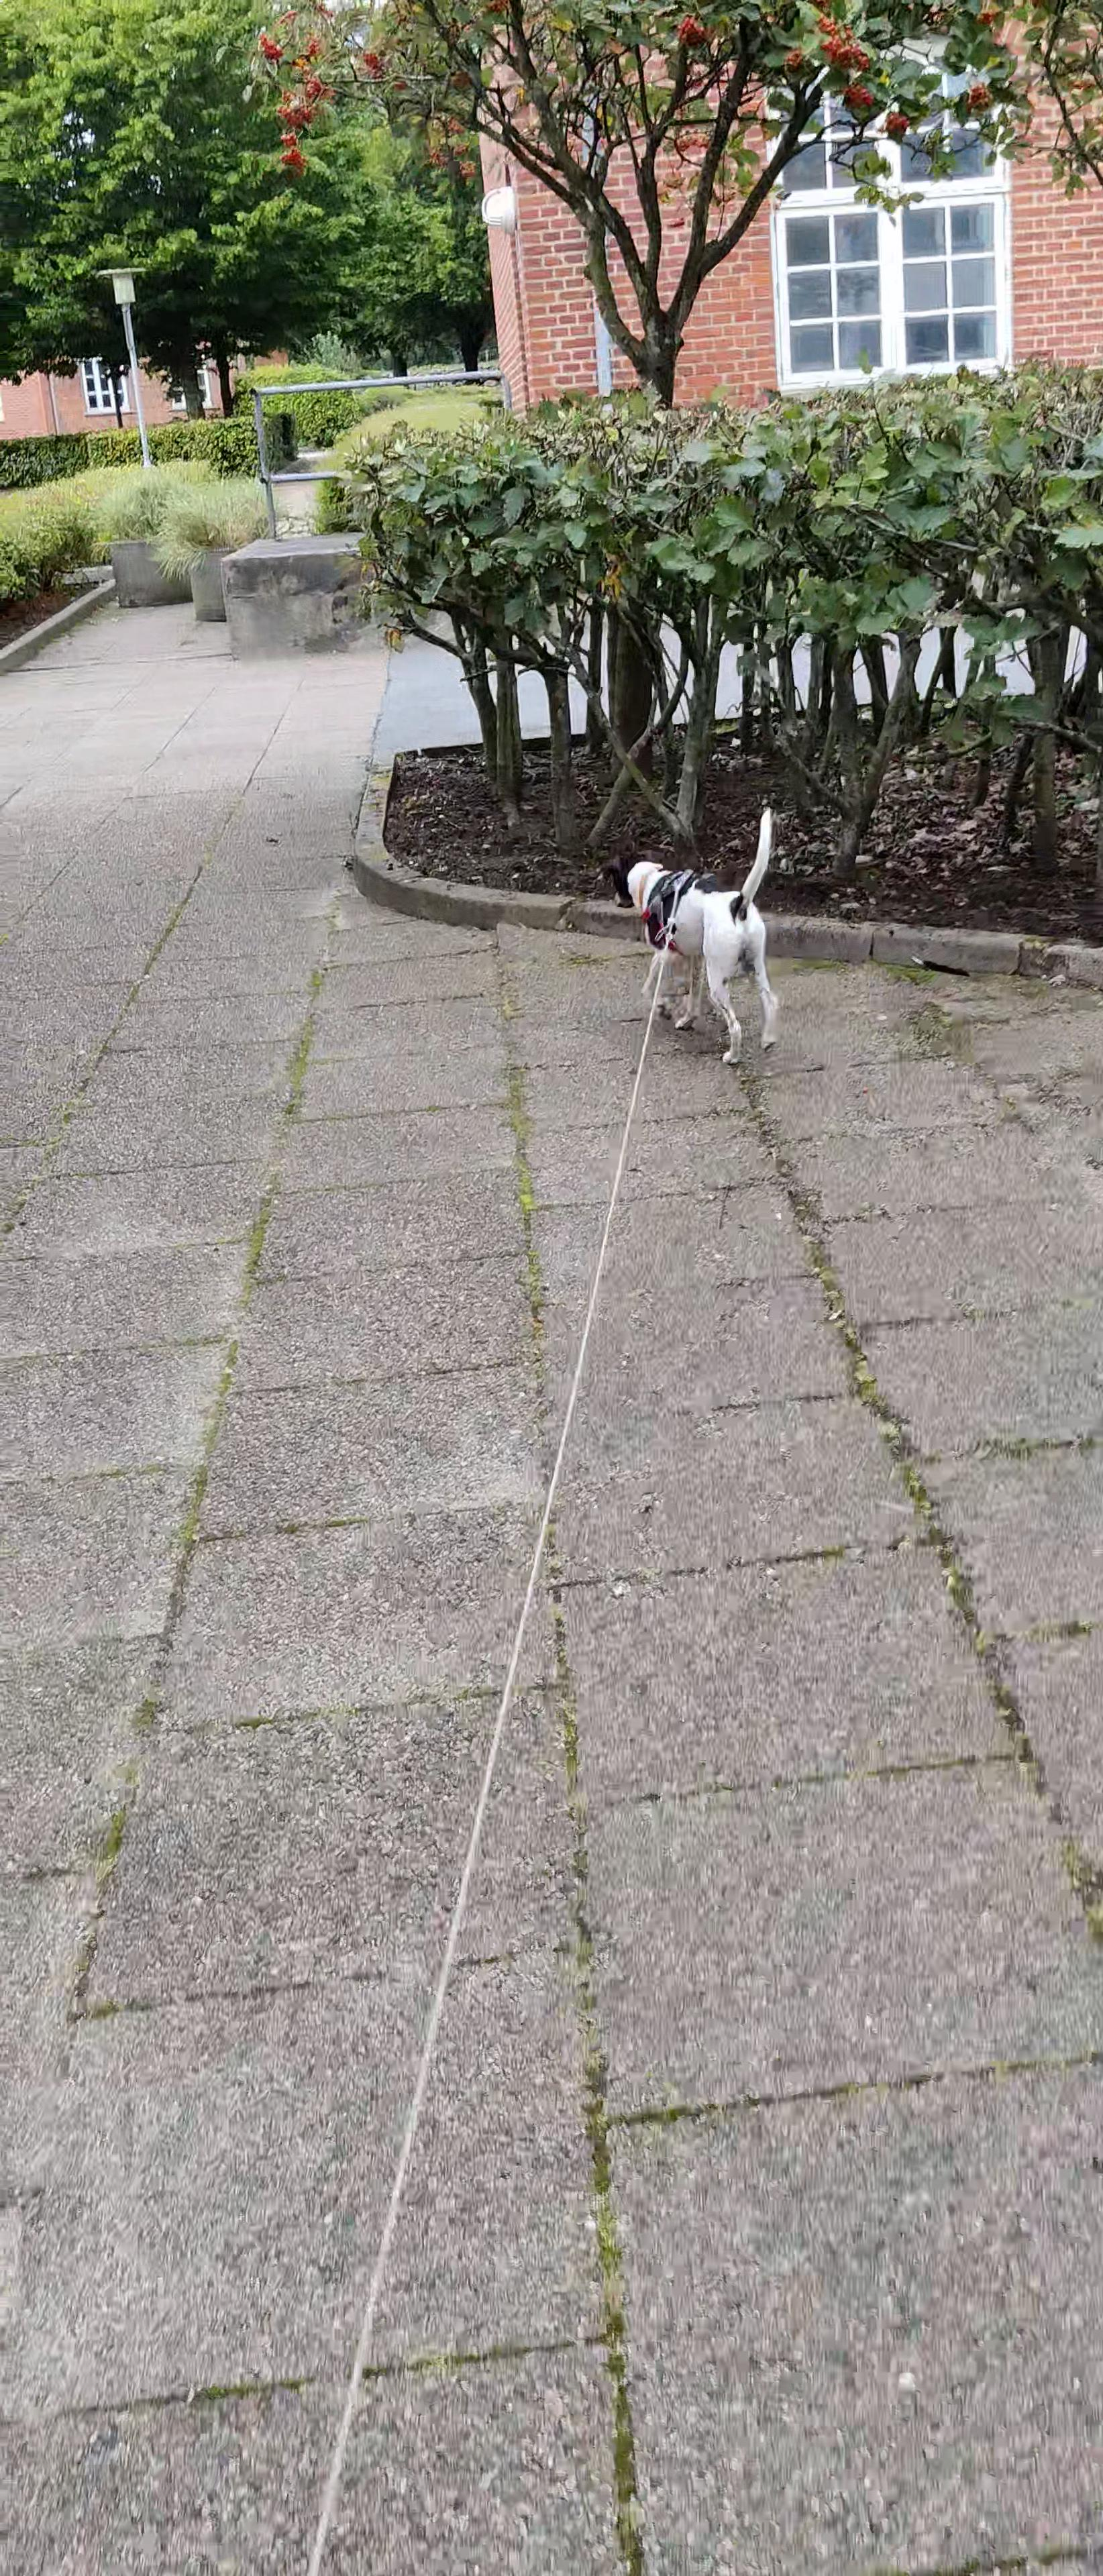Dog: (595, 785, 797, 1091)
